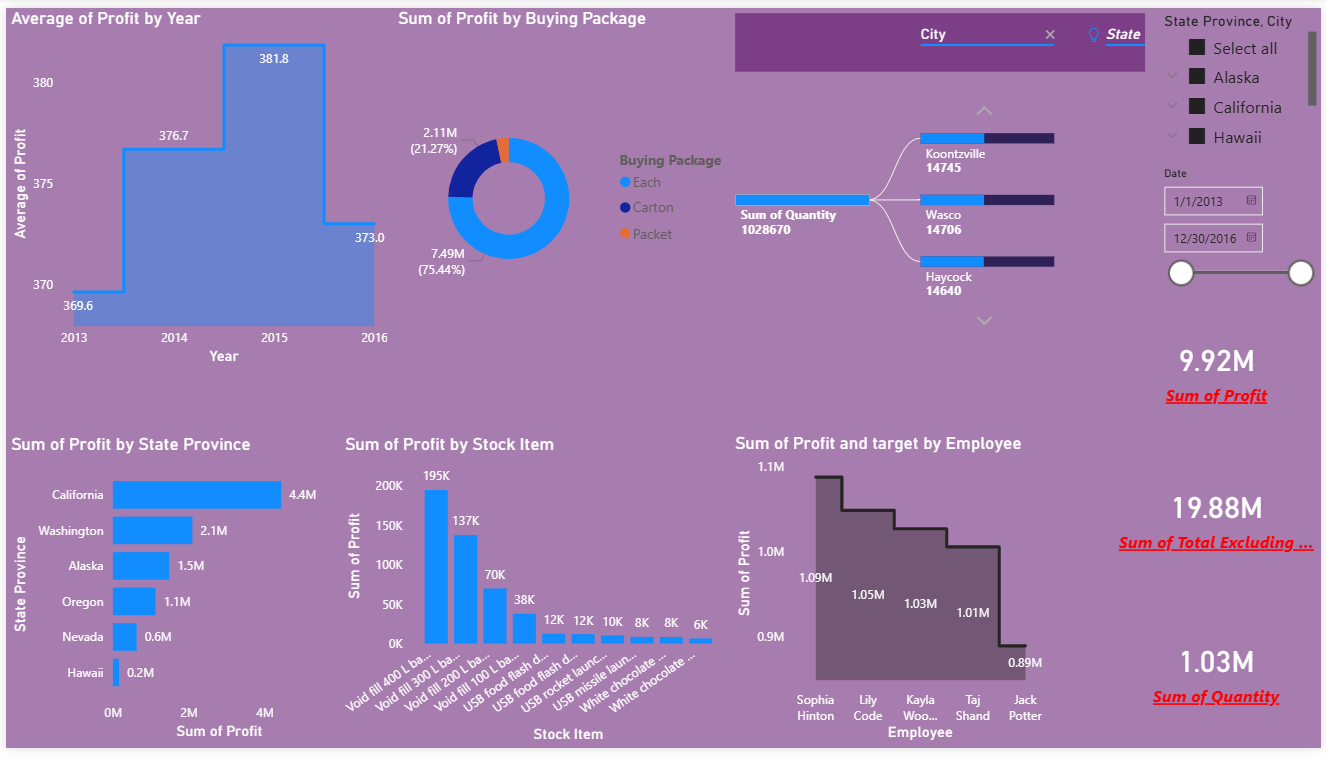

The dashboard page shown, as its layout file describes it:
{"tool":"powerbi","page":{"name":"SALES_PROJECT","canvas":[1280,720],"ordinal":0},"visuals":[{"type":"card","fields":{"Values":["Sum(FactSale.Quantity)"]},"box":[1062.9,399.1,204.4,148.9],"z":0},{"type":"card","fields":{"Values":["Sum(FactSale.Profit)"]},"box":[1077,284.4,203.3,136],"z":1000},{"type":"card","fields":{"Values":["Sum(FactSale.Total Excluding Tax)"]},"box":[1050.3,548,229.7,139.2],"z":2000},{"type":"areaChart","fields":{"Category":["DimDate.Date.Variation.Date Hierarchy.Year","DimDate.Date.Variation.Date Hierarchy.Quarter","DimDate.Date.Variation.Date Hierarchy.Month","DimDate.Date.Variation.Date Hierarchy.Day"],"Y":["Avg(FactSale.Profit)"]},"box":[0,63.3,363.1,303.7],"z":3000},{"type":"barChart","fields":{"Category":["DimCity.State Province Hierarchy.State Province","DimCity.State Province Hierarchy.City"],"Y":["Sum(FactSale.Profit)"]},"box":[0,414.9,325.6,302.2],"z":4000},{"type":"columnChart","fields":{"Category":["DimStockItem.Stock Item"],"Y":["Sum(FactSale.Profit)"]},"box":[325.6,414.9,379.1,305],"z":5000},{"type":"stackedAreaChart","fields":{"Category":["DimEmployee.Employee"],"Y":["Sum(FactSale.Profit)"]},"box":[704.7,413.5,315.9,303.6],"z":6000},{"type":"slicer","fields":{"Values":["DimDate.Date"]},"box":[1114.1,149.7,166.2,134.6],"z":7000},{"type":"slicer","fields":{"Values":["DimCity.State Province Hierarchy.State Province","DimCity.State Province Hierarchy.City"]},"box":[1114.1,0,166.2,149.7],"z":8000},{"type":"decompositionTreeVisual","fields":{"ExplainBy":["DimCity.State Province Hierarchy.City","DimCity.State Province Hierarchy.State Province"],"Analyze":["Sum(FactSale.Quantity)"]},"box":[390.3,63.3,537.3,288.1],"z":9000},{"type":"donutChart","fields":{"Category":["DimStockItem.Buying Package"],"Y":["Sum(FactSale.Profit)"]},"box":[769,149.9,334.8,210.3],"z":10000},{"type":"textbox","box":[0,0,363.1,55.5],"z":10001}]}

Visuals, with their boxes in screenshot pixels (x1, y1, x2, y2), scaled from the page's 1280x720 canvas onto the 1326x765 screenshot:
card - Sum(FactSale.Quantity): left=1101, top=424, right=1313, bottom=582
card - Sum(FactSale.Profit): left=1116, top=302, right=1325, bottom=447
card - Sum(FactSale.Total Excluding Tax): left=1088, top=582, right=1325, bottom=730
areaChart - DimDate.Date.Variation.Date Hierarchy.Year x DimDate.Date.Variation.Date Hierarchy.Quarter: left=0, top=67, right=376, bottom=390
barChart - DimCity.State Province Hierarchy.State Province x DimCity.State Province Hierarchy.City: left=0, top=441, right=337, bottom=762
columnChart - DimStockItem.Stock Item x Sum(FactSale.Profit): left=337, top=441, right=730, bottom=764
stackedAreaChart - DimEmployee.Employee x Sum(FactSale.Profit): left=730, top=439, right=1057, bottom=762
slicer - DimDate.Date: left=1154, top=159, right=1325, bottom=302
slicer - DimCity.State Province Hierarchy.State Province x DimCity.State Province Hierarchy.City: left=1154, top=0, right=1325, bottom=159
decompositionTreeVisual - DimCity.State Province Hierarchy.City x DimCity.State Province Hierarchy.State Province: left=404, top=67, right=961, bottom=373
donutChart - DimStockItem.Buying Package x Sum(FactSale.Profit): left=797, top=159, right=1143, bottom=383
textbox: left=0, top=0, right=376, bottom=59
